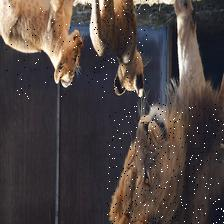Lion: (107, 103, 224, 224), (1, 0, 80, 99), (85, 0, 146, 98)
